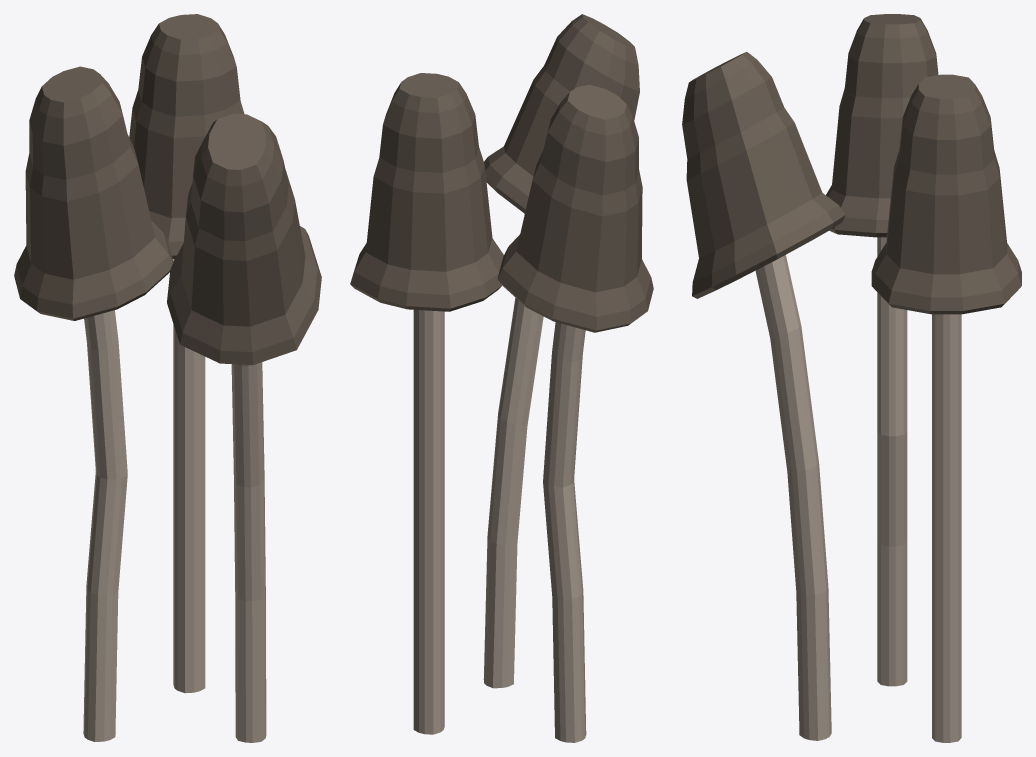
File: Mushroom4.3.fbx
3 renders of one model, left to right at view 1: azimuth 30°, elevation 25°; view 2: azimuth 150°, elevation 25°; view 3: azimuth 270°, elevation 25°, orthographic. The views are drawn at different scales.
Parts seen in each view (by area): view 1: Mushroom4.3; view 2: Mushroom4.3; view 3: Mushroom4.3.
Boxes of the visible parts, x1,y1,x2,y2 form: Mushroom4.3: [14, 14, 321, 742]; Mushroom4.3: [350, 14, 653, 742]; Mushroom4.3: [682, 14, 1021, 742].
Bounding box in the file's own units: 91.6 × 228 × 107.
